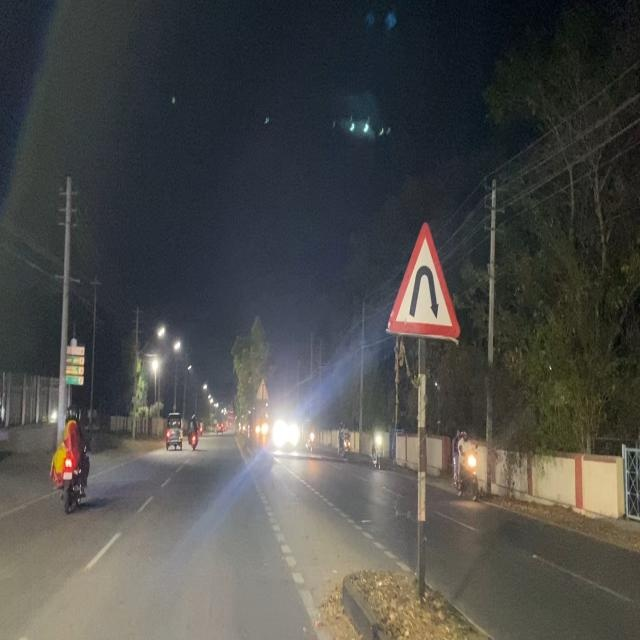bien_nguy_hiem: (385, 217, 462, 347)
